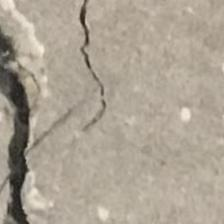Crack: (0, 0, 128, 224)
